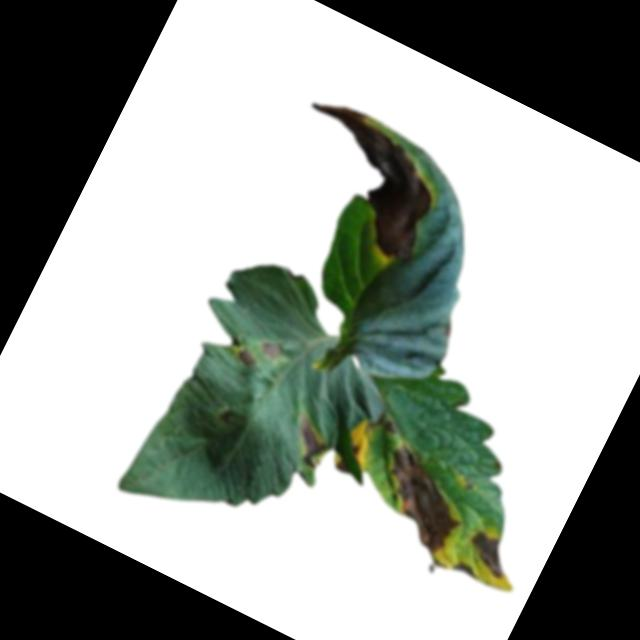Early_blight: (263, 91, 463, 272), (360, 438, 482, 560), (459, 528, 519, 583), (282, 414, 335, 469), (339, 420, 383, 472), (449, 558, 479, 584), (256, 337, 285, 363), (232, 348, 257, 369)
